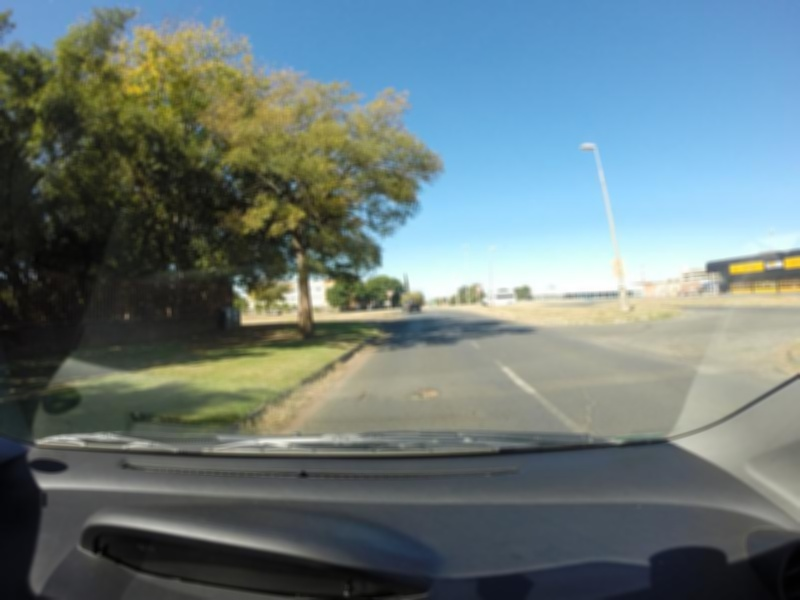pothole: (410, 388, 437, 400), (361, 392, 366, 402)
